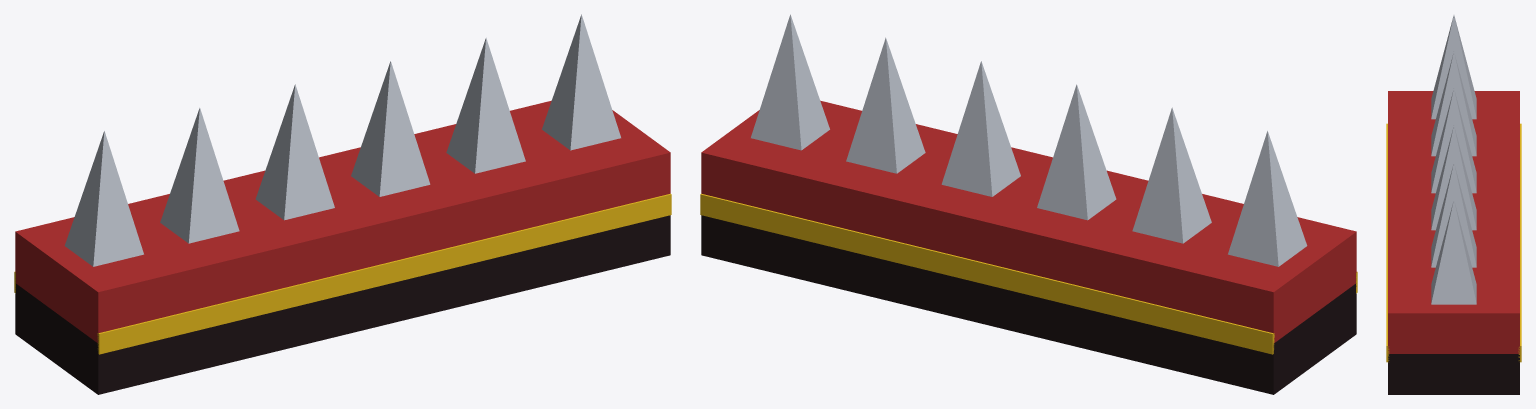
Rendered from spike_wall.glb.
The picture shows the model from 3 angles, left to right: view 1: azimuth 30°, elevation 25°; view 2: azimuth 150°, elevation 25°; view 3: azimuth 270°, elevation 25°; orthographic projection. The views are drawn at different scales.
Parts seen in each view (by area): view 1: spike_wall; view 2: spike_wall; view 3: spike_wall.
Boxes of the visible parts, x1,y1,x2,y2 form: spike_wall: (14,14,671,394); spike_wall: (700,14,1357,394); spike_wall: (1386,15,1521,394).
Bounding box in the file's own units: 3.5 × 1.3 × 0.9.
1 material, 1 textured.
